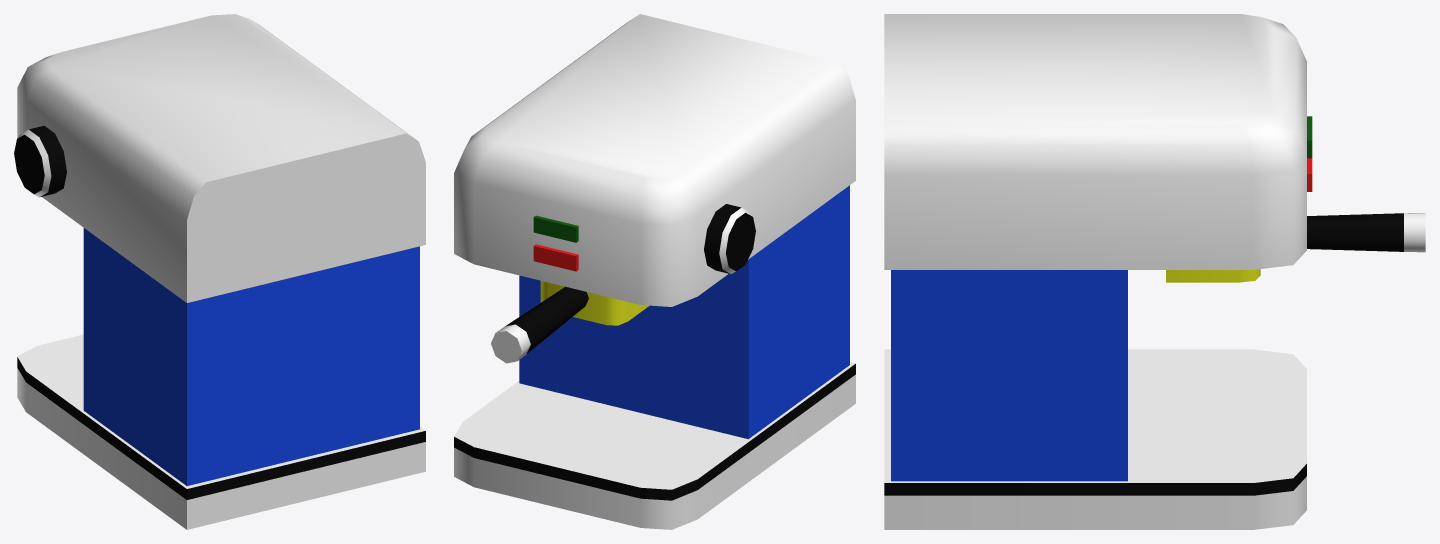
The model's file is May pha ca phe.FBX.
3 renders of one model, left to right at view 1: azimuth 30°, elevation 25°; view 2: azimuth 150°, elevation 25°; view 3: azimuth 270°, elevation 25°, orthographic. The views are drawn at different scales.
Parts seen in each view (by area): view 1: Box1267; view 2: Box1267; view 3: Box1267.
Part boxes in pixels (x1=…): Box1267: x1=14, y1=14, x2=425, y2=529; Box1267: x1=454, y1=14, x2=855, y2=529; Box1267: x1=884, y1=14, x2=1425, y2=529.
Bounding box in the file's own units: 1.23 × 1.56 × 1.95.
